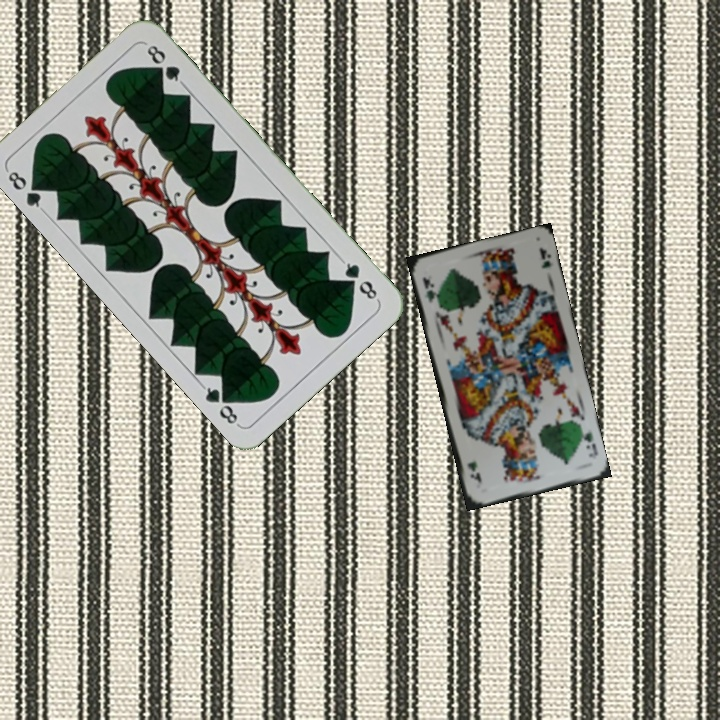G8: (2, 166, 48, 214), (337, 256, 381, 304)
GK: (418, 272, 441, 307), (577, 427, 600, 460)
